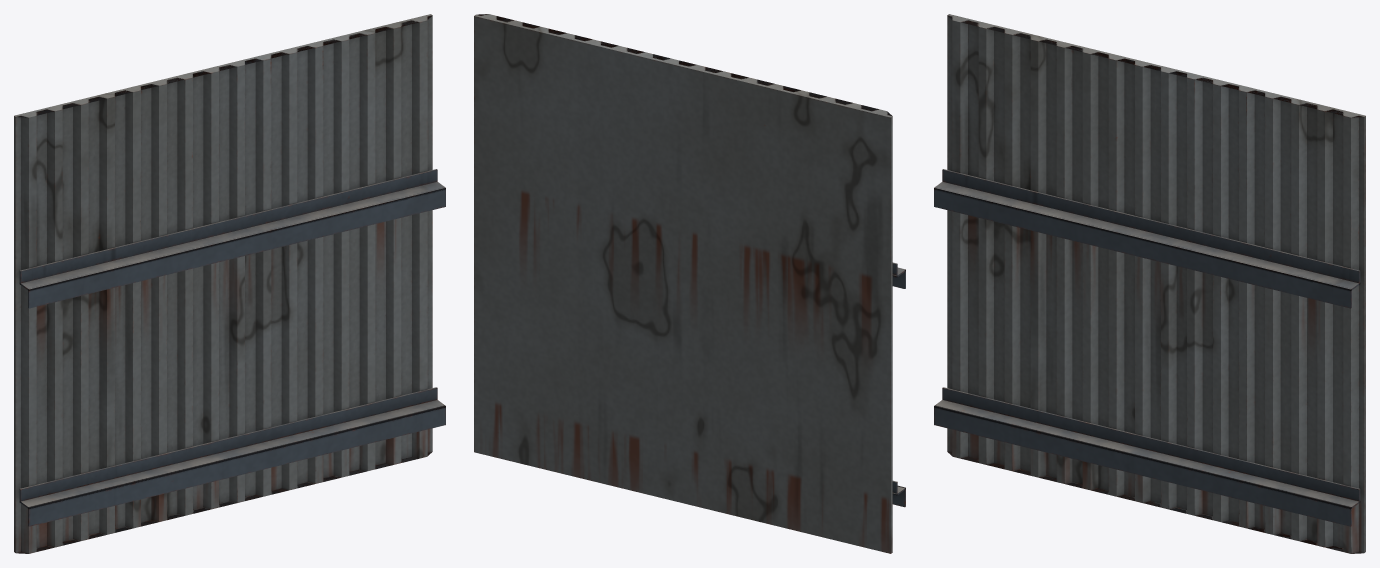
File: wall_upper.fbx
3 views of the same model, side by side, from view 1: azimuth 30°, elevation 25°; view 2: azimuth 150°, elevation 25°; view 3: azimuth 330°, elevation 25° (orthographic).
Visible parts, largest first — view 1: Body; view 2: Body; view 3: Body.
Boxes of the visible parts, left/top/right/bottom form: Body: left=14, top=14, right=445, bottom=553; Body: left=474, top=14, right=905, bottom=553; Body: left=934, top=14, right=1365, bottom=553.
Size of the model in its own units: 16 by 16 by 1.
Materials: 1 (1 with a texture image).
